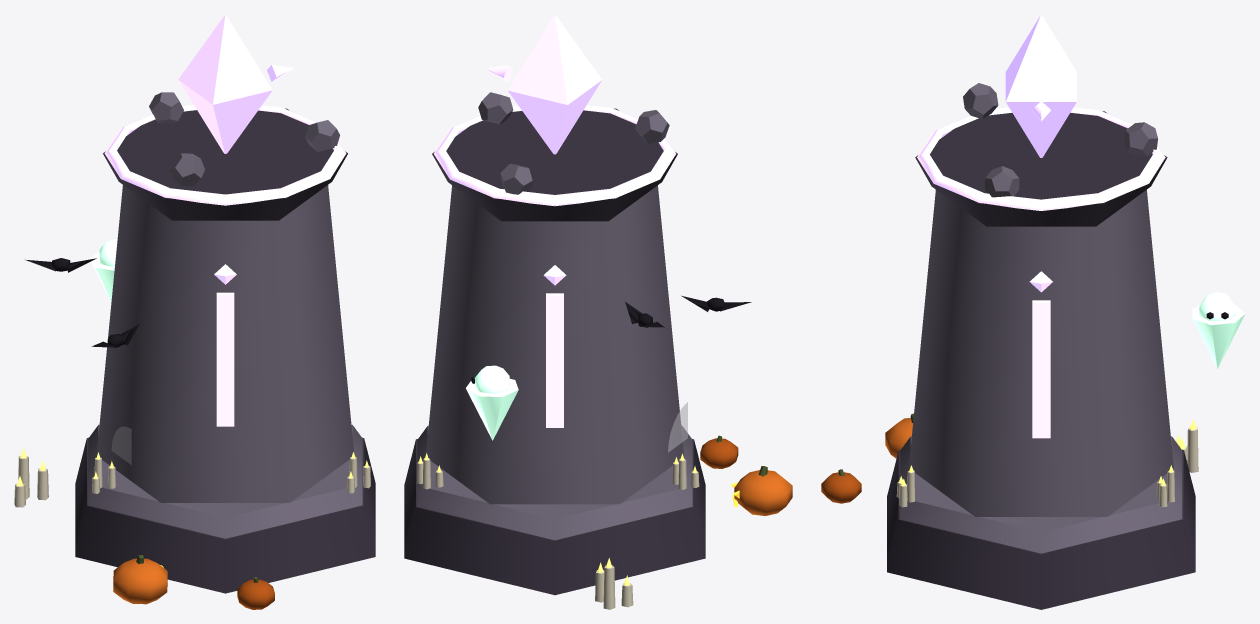
The model's file is tower_element.glb.
3 views of the same model, side by side, from view 1: azimuth 30°, elevation 25°; view 2: azimuth 150°, elevation 25°; view 3: azimuth 270°, elevation 25° (orthographic). The views are drawn at different scales.
Visible parts, largest first — view 1: pillar, base, pillar_cap, base_top, crystal, cap_ring, aura, rune_2, deco_hw_jack_body, deco_hw_candles, deco_hw_pumpkin_body, deco_hw_web_net (+3 smaller); view 2: pillar, base, pillar_cap, base_top, crystal, cap_ring, aura, rune_1, deco_hw_jack_body, deco_hw_ghost_sheet, deco_hw_candles, deco_hw_pumpkin_body (+4 smaller); view 3: pillar, base, pillar_cap, base_top, crystal, cap_ring, aura, rune_0, deco_hw_ghost_sheet, deco_hw_pumpkin_body, deco_hw_ghost_head, deco_hw_jack_body (+1 smaller).
Part boxes in pixels (box(x1,y1,x2,y2)): pillar: box(96, 185, 354, 502); base: box(75, 437, 375, 593); pillar_cap: box(103, 108, 347, 220); base_top: box(88, 424, 362, 538); crystal: box(178, 14, 272, 153); cap_ring: box(104, 105, 346, 205); aura: box(149, 92, 339, 186); rune_2: box(216, 292, 234, 426); deco_hw_jack_body: box(113, 558, 167, 604); deco_hw_candles: box(14, 448, 48, 507); deco_hw_pumpkin_body: box(237, 579, 274, 609); deco_hw_web_net: box(111, 426, 131, 464); pillar: box(426, 185, 684, 504); base: box(404, 439, 705, 595); pillar_cap: box(432, 108, 677, 221); base_top: box(417, 426, 692, 540); crystal: box(508, 14, 602, 154); cap_ring: box(434, 105, 675, 206); aura: box(478, 92, 669, 194); rune_1: box(546, 293, 563, 427); deco_hw_jack_body: box(734, 470, 792, 515); deco_hw_ghost_sheet: box(466, 378, 518, 440); deco_hw_candles: box(595, 558, 633, 609); deco_hw_pumpkin_body: box(700, 438, 738, 468); pillar: box(908, 189, 1173, 516); base: box(887, 449, 1195, 609); pillar_cap: box(915, 111, 1167, 226); base_top: box(900, 436, 1182, 553); crystal: box(1005, 14, 1076, 157); cap_ring: box(917, 107, 1165, 210); aura: box(963, 83, 1157, 197); rune_0: box(1032, 300, 1050, 438); deco_hw_ghost_sheet: box(1192, 304, 1245, 369); deco_hw_pumpkin_body: box(821, 472, 861, 503); deco_hw_ghost_head: box(1199, 292, 1235, 320); deco_hw_jack_body: box(885, 418, 912, 458).
Bounding box in the file's own units: 0.4175 × 0.628 × 0.4636.
